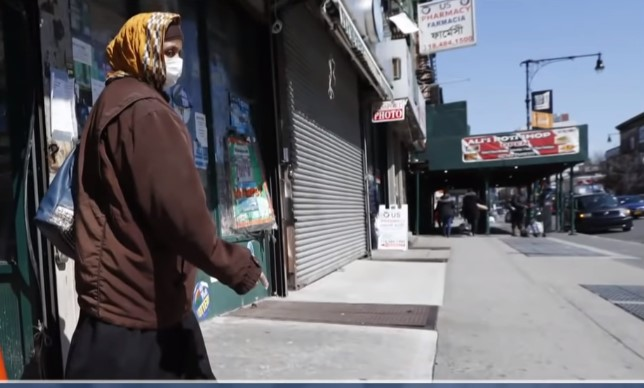face_with_mask: (112, 10, 186, 93)
